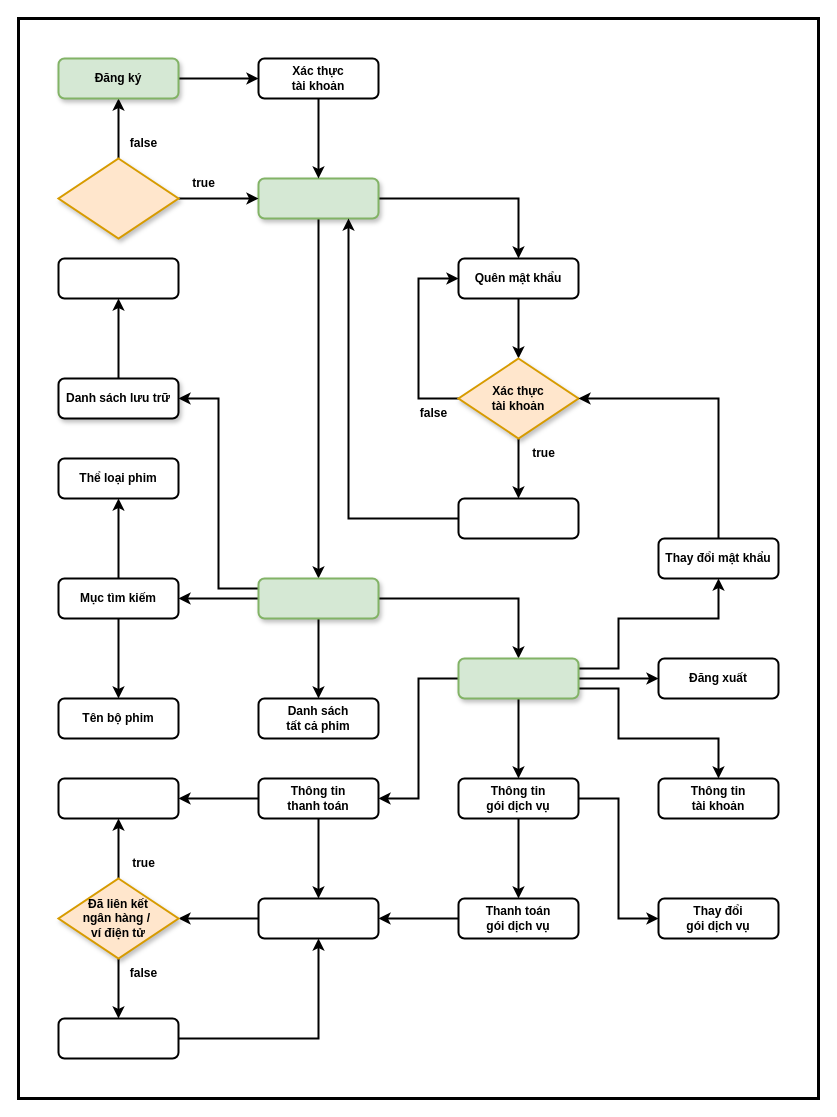
This 837x1117 diagram has some shape labels left out. Here are the shapes that lost their labels. From the top down, the centre of each, then its label:
[119,199]: Đã có tài khoản
[319,199]: Đăng nhập
[118,278]: Phim yêu thích Phim đã xem
[518,518]: Đặt lại mật khẩu
[319,599]: Trang chủ
[519,679]: Trang tài khoản
[118,798]: Lịch sử thanh toán
[318,918]: Phương thức thanh toán
[118,1038]: Thêm phương thức thanh toán
